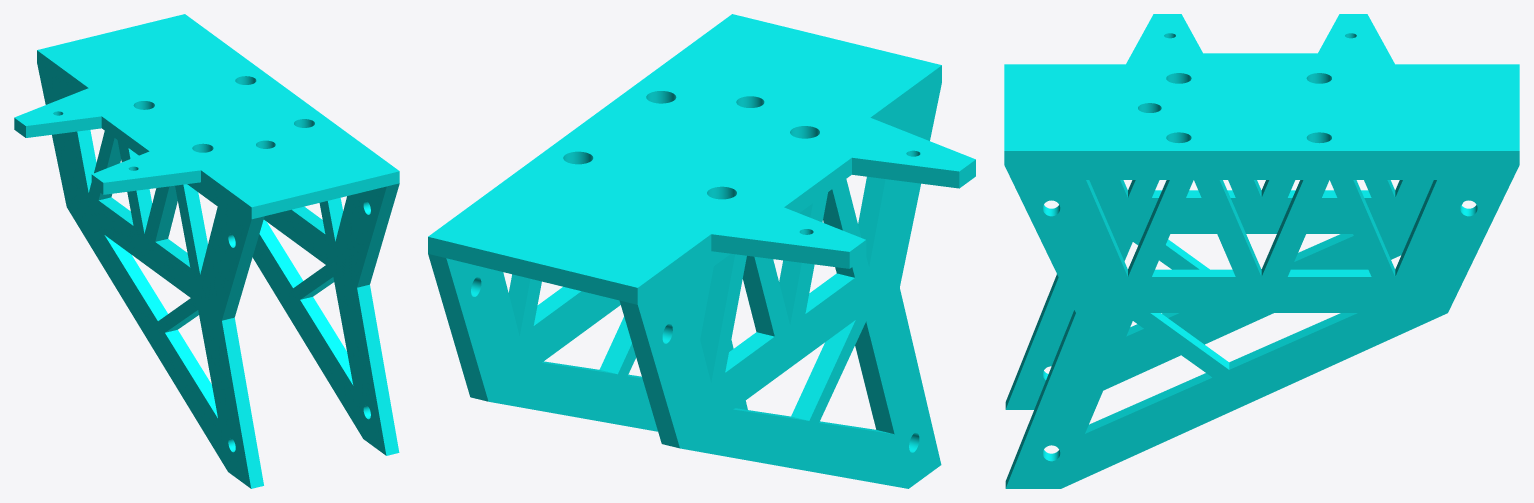
Rendered from End-Effector.obj.
3 views of the same model, side by side, from view 1: azimuth 30°, elevation 25°; view 2: azimuth 150°, elevation 25°; view 3: azimuth 270°, elevation 25° (orthographic). The views are drawn at different scales.
Size of the model in its own units: 81.58 by 93.83 by 130.
